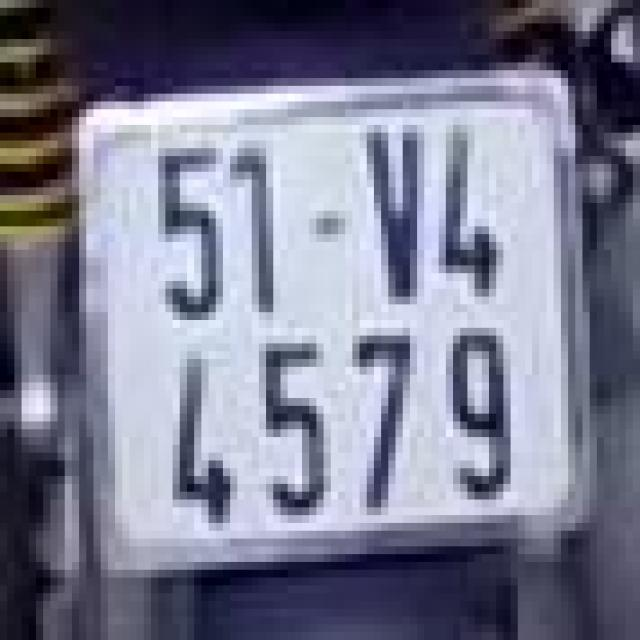1: (227, 132, 291, 328)
4: (151, 340, 237, 534), (435, 109, 507, 312)
5: (148, 136, 226, 332), (256, 328, 334, 523)
7: (345, 324, 417, 511)
9: (442, 324, 522, 511)
V: (345, 102, 424, 312)
